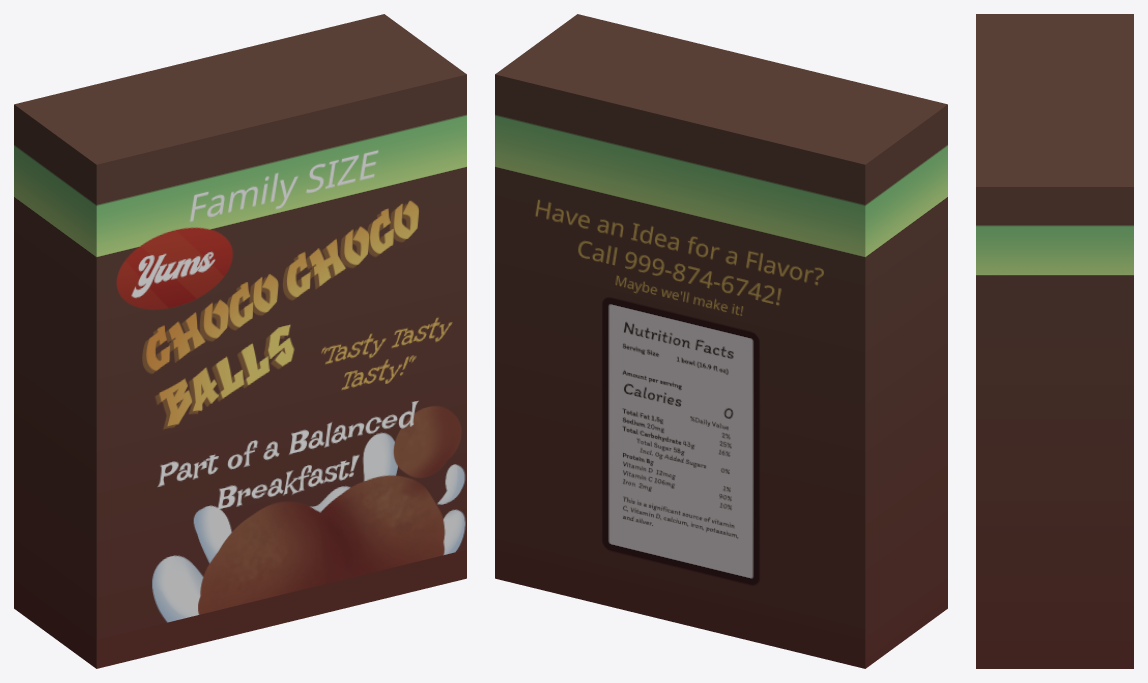
File: Cereal_ChocoBalls.fbx
The picture shows the model from 3 angles, left to right: view 1: azimuth 30°, elevation 25°; view 2: azimuth 150°, elevation 25°; view 3: azimuth 270°, elevation 25°; orthographic projection. The views are drawn at different scales.
Visible parts, largest first — view 1: Cereal_ChocoBalls; view 2: Cereal_ChocoBalls; view 3: Cereal_ChocoBalls.
Part boxes in pixels (left/top/right/bottom): Cereal_ChocoBalls: left=14, top=14, right=466, bottom=668; Cereal_ChocoBalls: left=495, top=14, right=947, bottom=668; Cereal_ChocoBalls: left=976, top=14, right=1133, bottom=668.
Bounding box in the file's own units: 61.88 × 80.48 × 23.88.
Materials: 1 (1 with a texture image).
